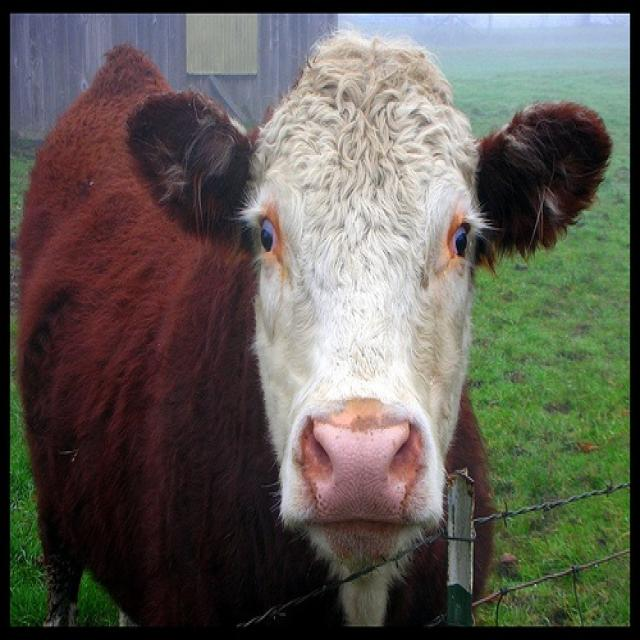cow: (20, 32, 614, 639)
